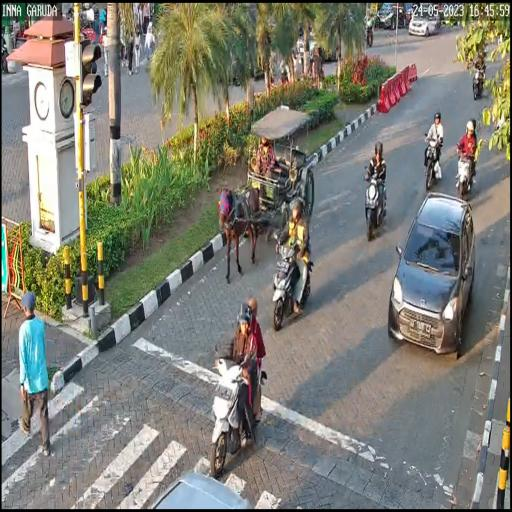mobil: (390, 186, 479, 369)
motor: (210, 338, 270, 473), (270, 232, 316, 328), (361, 154, 389, 252), (454, 138, 481, 197), (422, 130, 444, 188)
